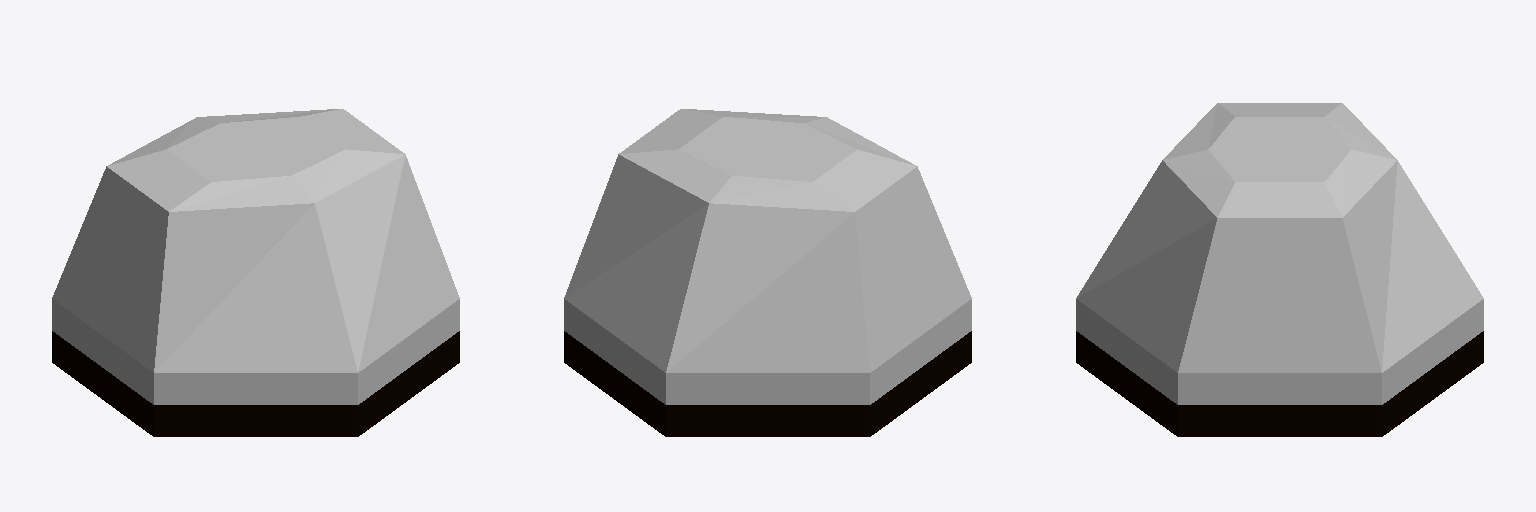
File: desert_mountain.obj
3 renders of one model, left to right at view 1: azimuth 30°, elevation 25°; view 2: azimuth 150°, elevation 25°; view 3: azimuth 270°, elevation 25°, orthographic.
Parts seen in each view (by area): view 1: Hex; view 2: Hex; view 3: Hex.
Part boxes in pixels (bbox=[...]): Hex: bbox=[52, 109, 459, 436]; Hex: bbox=[564, 109, 971, 436]; Hex: bbox=[1076, 103, 1483, 436].
Bounding box in the file's own units: 1 × 0.666 × 1.15.